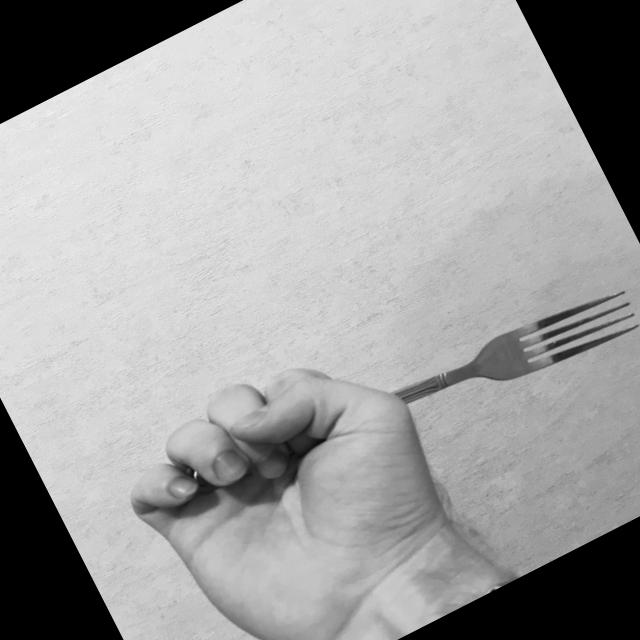fork: (119, 248, 640, 575)
